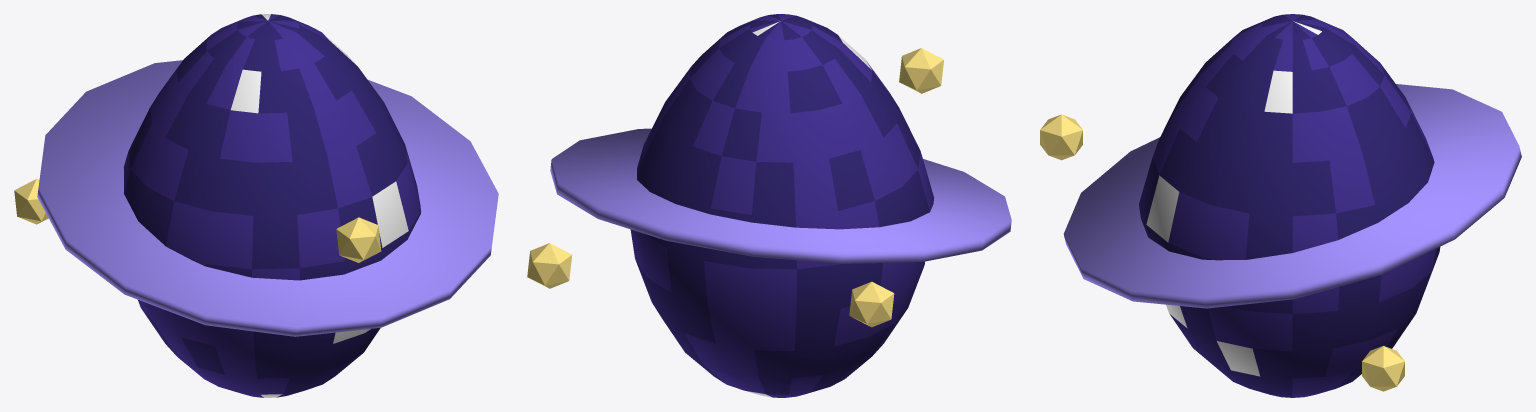
Rendered from Cosmic.glb.
3 views of the same model, side by side, from view 1: azimuth 30°, elevation 25°; view 2: azimuth 150°, elevation 25°; view 3: azimuth 270°, elevation 25° (orthographic).
Visible parts, largest first — view 1: Cosmic; view 2: Cosmic; view 3: Cosmic.
Boxes of the visible parts, x1=… form: Cosmic: x1=14, y1=14, x2=498, y2=397; Cosmic: x1=527, y1=14, x2=1011, y2=397; Cosmic: x1=1040, y1=14, x2=1521, y2=397.
Bounding box in the file's own units: 4.64 × 4 × 4.76.
1 material, 1 textured.
